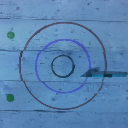Axe Tip: (80, 74, 92, 76)
